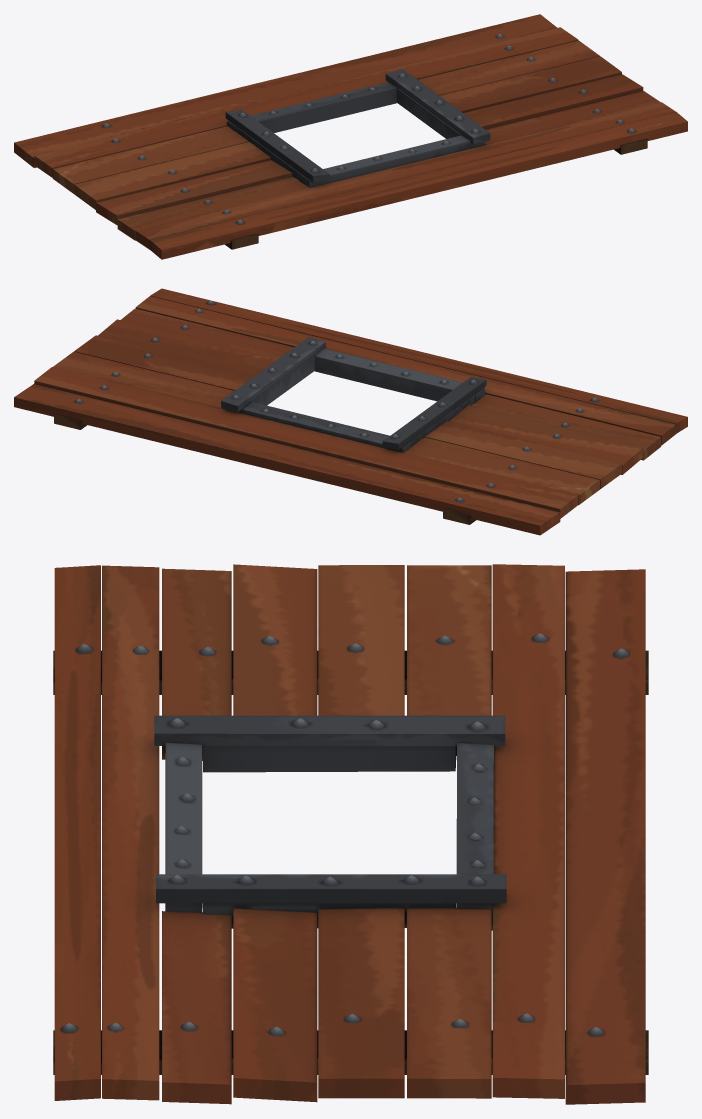
File: 1P_SolEtage-Trou.FBX
The picture shows the model from 3 angles, top to bottom: view 1: azimuth 30°, elevation 25°; view 2: azimuth 150°, elevation 25°; view 3: azimuth 270°, elevation 25°; orthographic projection. The views are drawn at different scales.
Visible parts, largest first — view 1: 1P_SolEtage-Trou; view 2: 1P_SolEtage-Trou; view 3: 1P_SolEtage-Trou.
Part boxes in pixels (box(x1,y1,x2,y2)): 1P_SolEtage-Trou: box(14, 14, 687, 259); 1P_SolEtage-Trou: box(14, 288, 687, 535); 1P_SolEtage-Trou: box(53, 564, 648, 1104).
Bounding box in the file's own units: 20.42 × 1.16 × 10.
